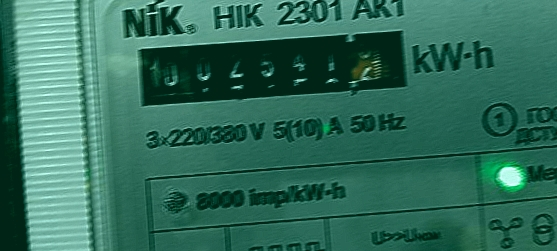0: (191, 50, 212, 84), (161, 57, 179, 87)
1: (319, 40, 337, 73)
2: (222, 47, 245, 82)
4: (288, 42, 307, 74)
5: (256, 47, 274, 80)
6: (355, 62, 372, 83)
screen: (122, 15, 427, 121)
